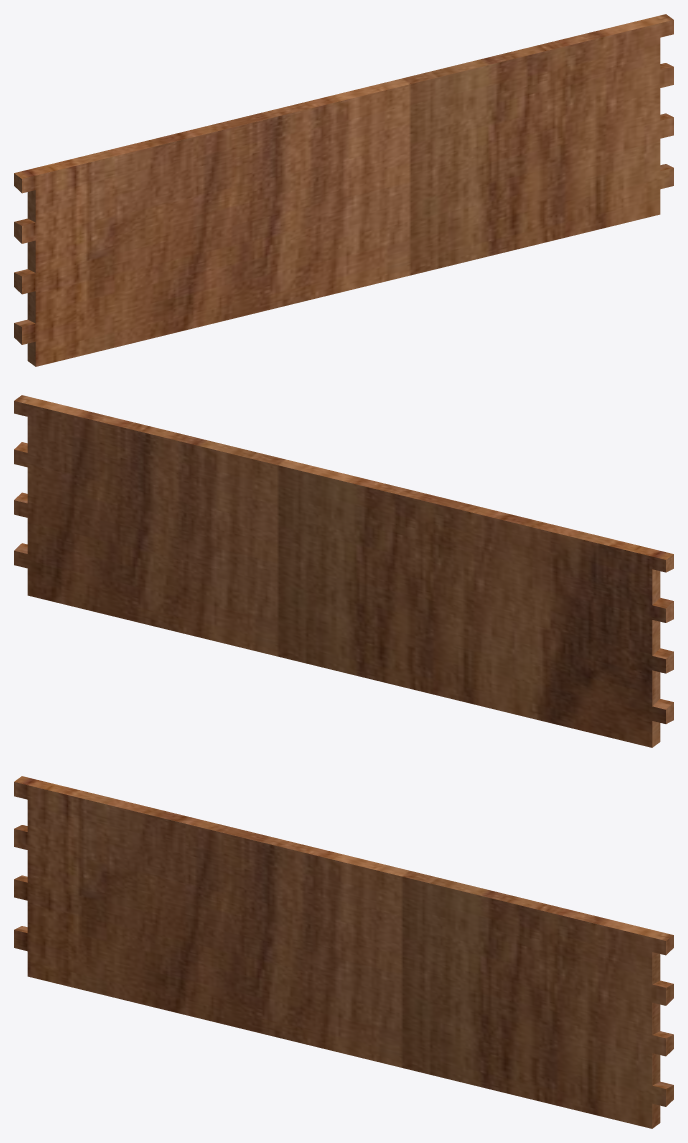
Rendered from original-1124.obj.
The picture shows the model from 3 angles, top to bottom: view 1: azimuth 30°, elevation 25°; view 2: azimuth 150°, elevation 25°; view 3: azimuth 330°, elevation 25°; orthographic projection.
Parts seen in each view (by area): view 1: draw_back1/draw_back/mesh309/mesh309-geometry#mesh309-geometry; view 2: draw_back1/draw_back/mesh309/mesh309-geometry#mesh309-geometry; view 3: draw_back1/draw_back/mesh309/mesh309-geometry#mesh309-geometry.
Boxes of the visible parts, bbox=[...] form: draw_back1/draw_back/mesh309/mesh309-geometry#mesh309-geometry: bbox=[14, 14, 673, 366]; draw_back1/draw_back/mesh309/mesh309-geometry#mesh309-geometry: bbox=[14, 395, 673, 747]; draw_back1/draw_back/mesh309/mesh309-geometry#mesh309-geometry: bbox=[14, 776, 673, 1128].
Bounding box in the file's own units: 0.6722 × 0.1885 × 0.0142.
